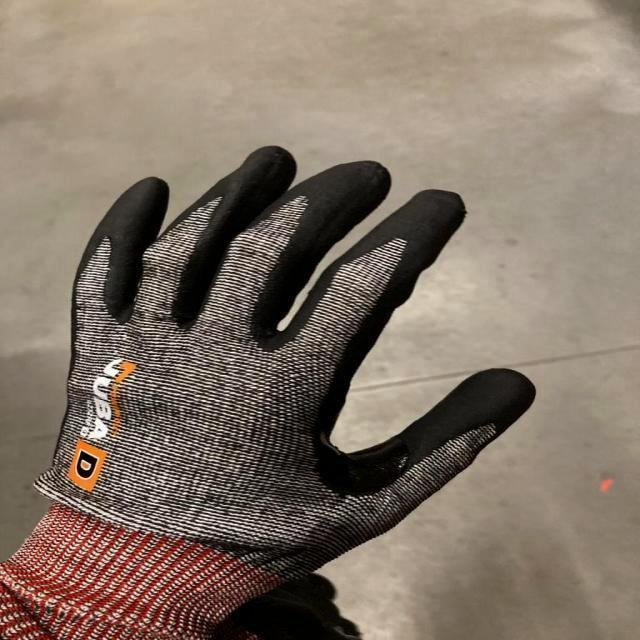Guantes: (69, 161, 540, 640)
